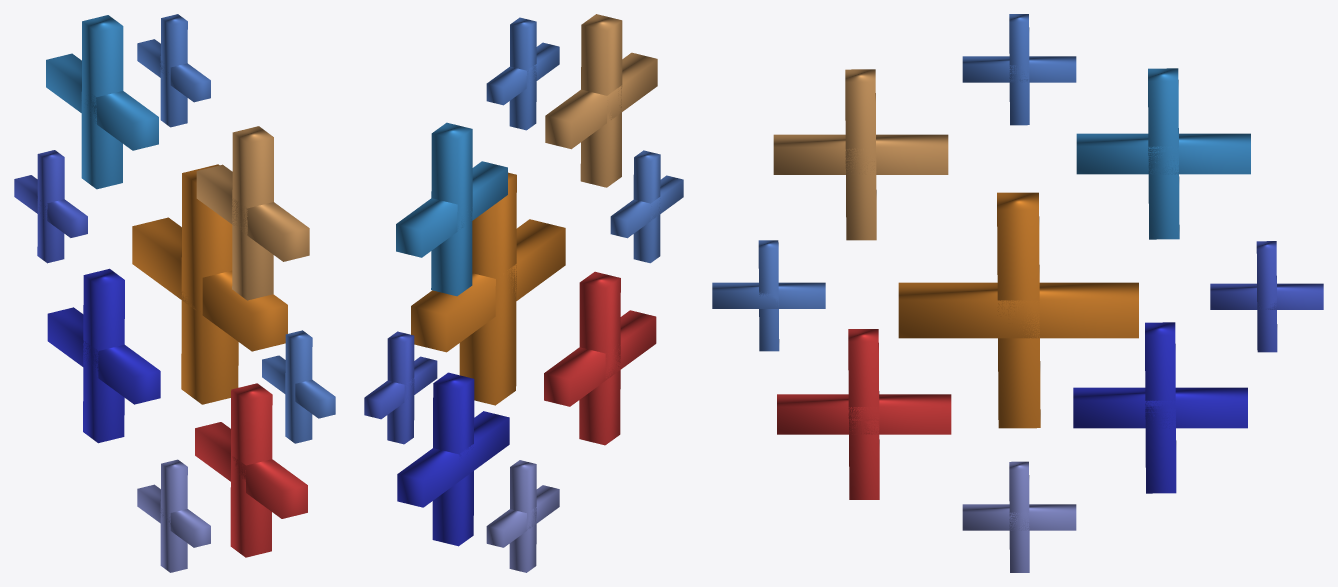
The model's file is tableau.glb.
3 views of the same model, side by side, from view 1: azimuth 30°, elevation 25°; view 2: azimuth 150°, elevation 25°; view 3: azimuth 270°, elevation 25° (orthographic).
Visible parts, largest first — view 1: Cube.008_0; view 2: Cube.008_0; view 3: Cube.008_0.
Part boxes in pixels (x1,y1,x2,y2): Cube.008_0: (14,14,335,572); Cube.008_0: (364,14,683,572); Cube.008_0: (712,14,1323,572).
Bounding box in the file's own units: 3.7 × 28.97 × 29.16.
